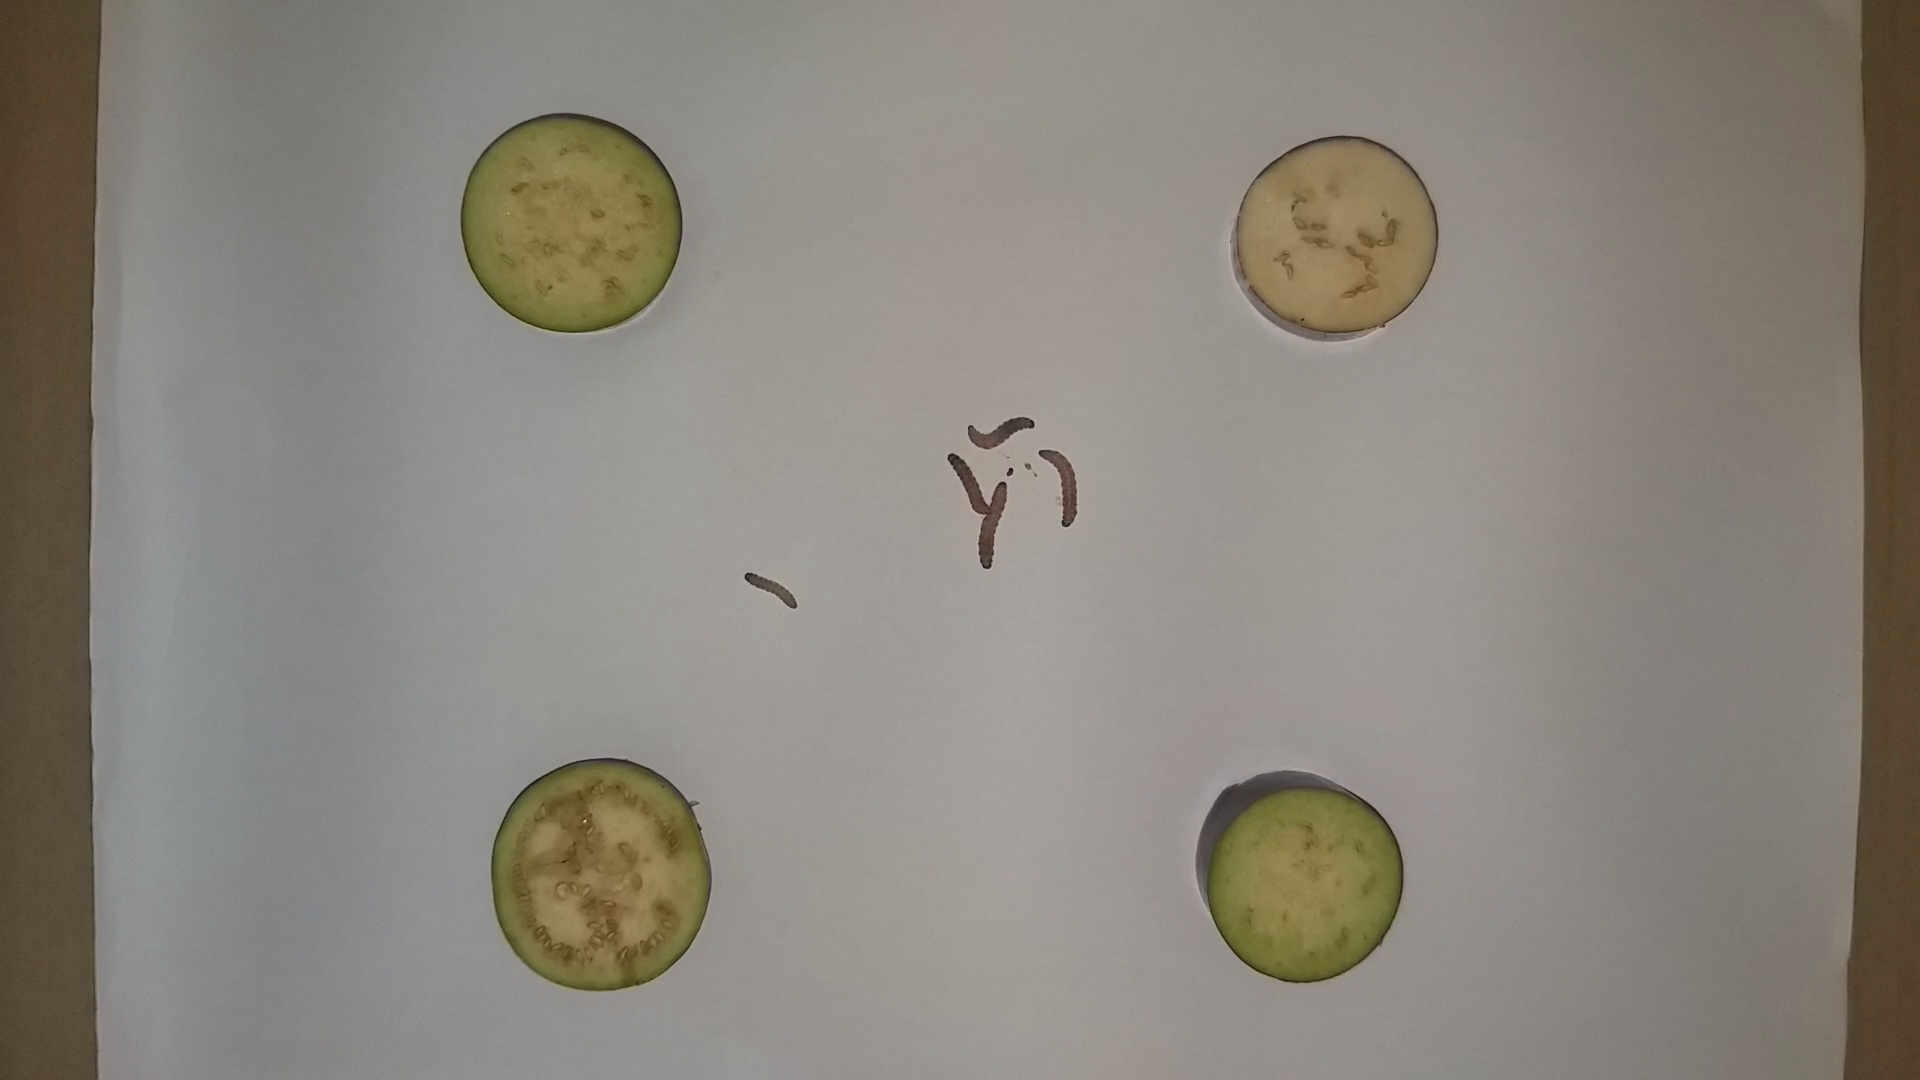efsb: (1034, 442, 1083, 534), (943, 451, 996, 517), (976, 480, 1007, 575), (963, 409, 1038, 448), (733, 568, 799, 607)
eggplant: (487, 752, 717, 1000), (458, 107, 687, 345), (1192, 766, 1414, 990), (1226, 131, 1449, 352)
